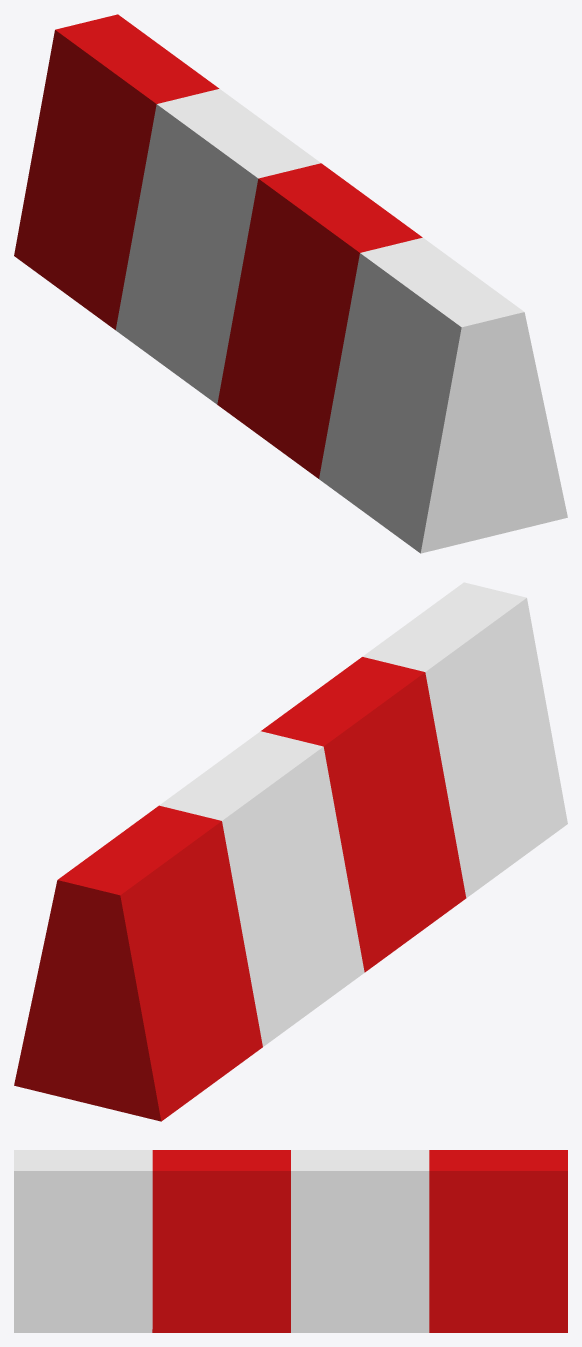
The model's file is road_barrier1.fbx.
The picture shows the model from 3 angles, top to bottom: view 1: azimuth 30°, elevation 25°; view 2: azimuth 150°, elevation 25°; view 3: azimuth 270°, elevation 25°; orthographic projection. The views are drawn at different scales.
Visible parts, largest first — view 1: Cube; view 2: Cube; view 3: Cube.
Boxes of the visible parts, bbox=[...] form: Cube: bbox=[14, 14, 567, 553]; Cube: bbox=[14, 582, 567, 1121]; Cube: bbox=[14, 1150, 567, 1332].
Bounding box in the file's own units: 143 × 200 × 682.
